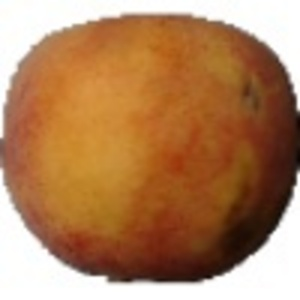pêssego: (1, 7, 300, 286)
